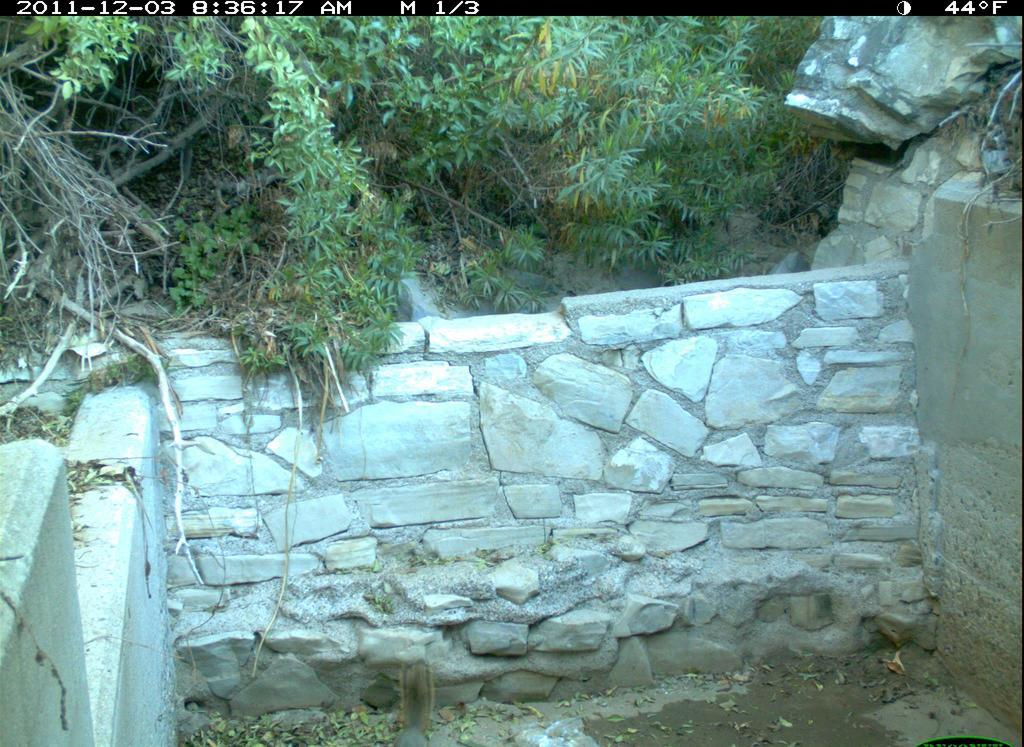squirrel: (355, 643, 486, 747)
